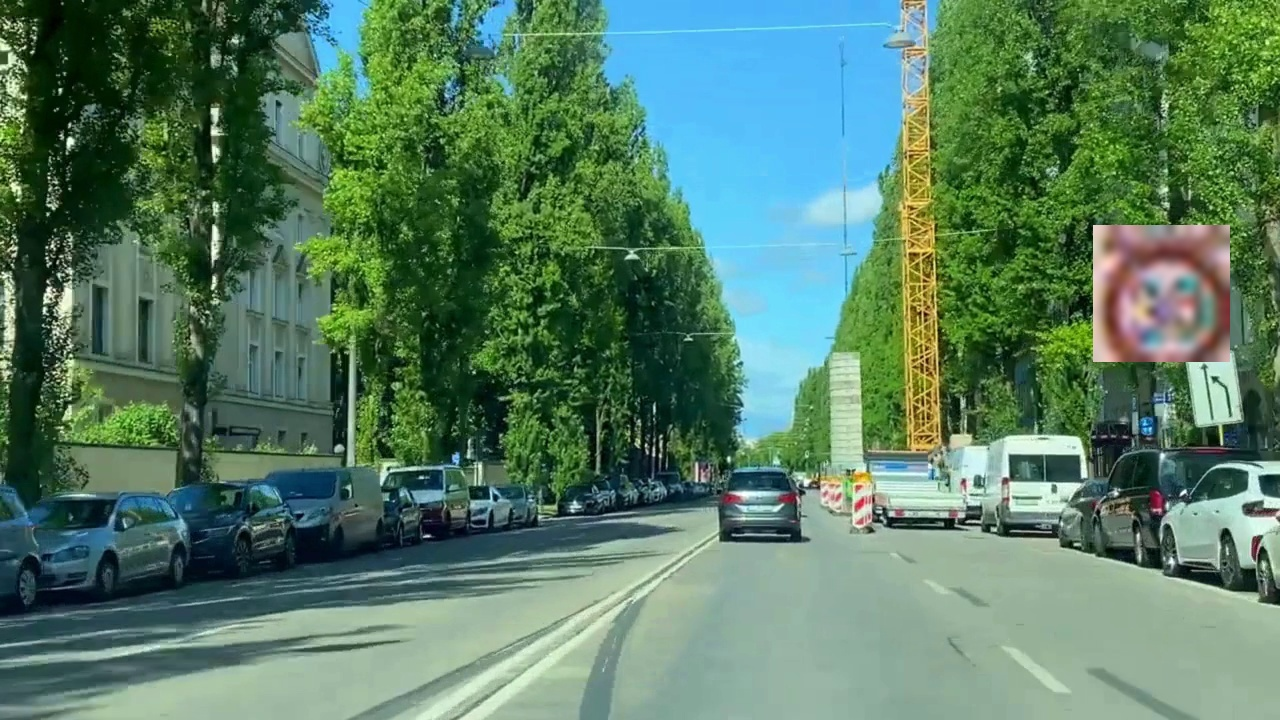Speed 30: (1093, 225, 1230, 362)
